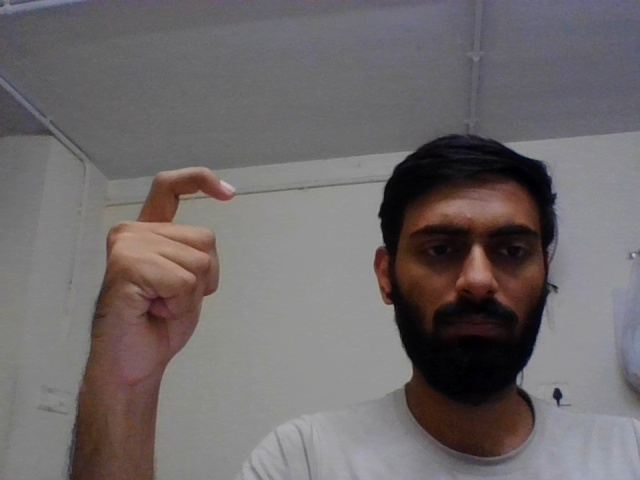X: (75, 159, 240, 402)
